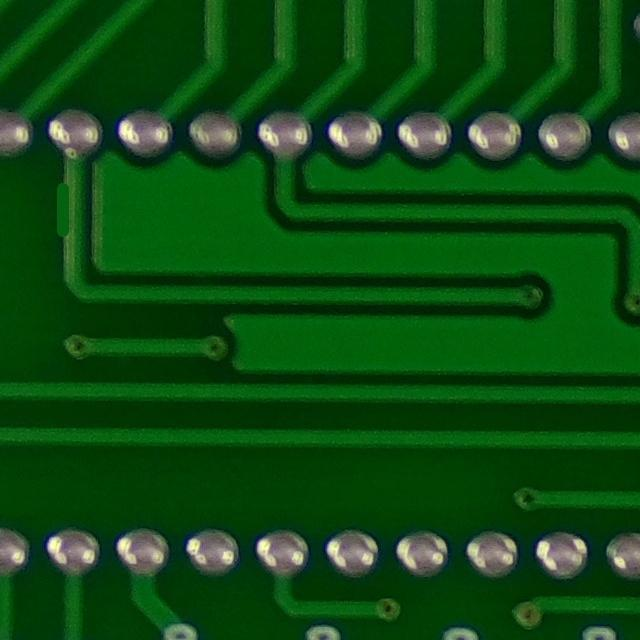spur: (45, 172, 87, 249), (0, 572, 22, 637)
